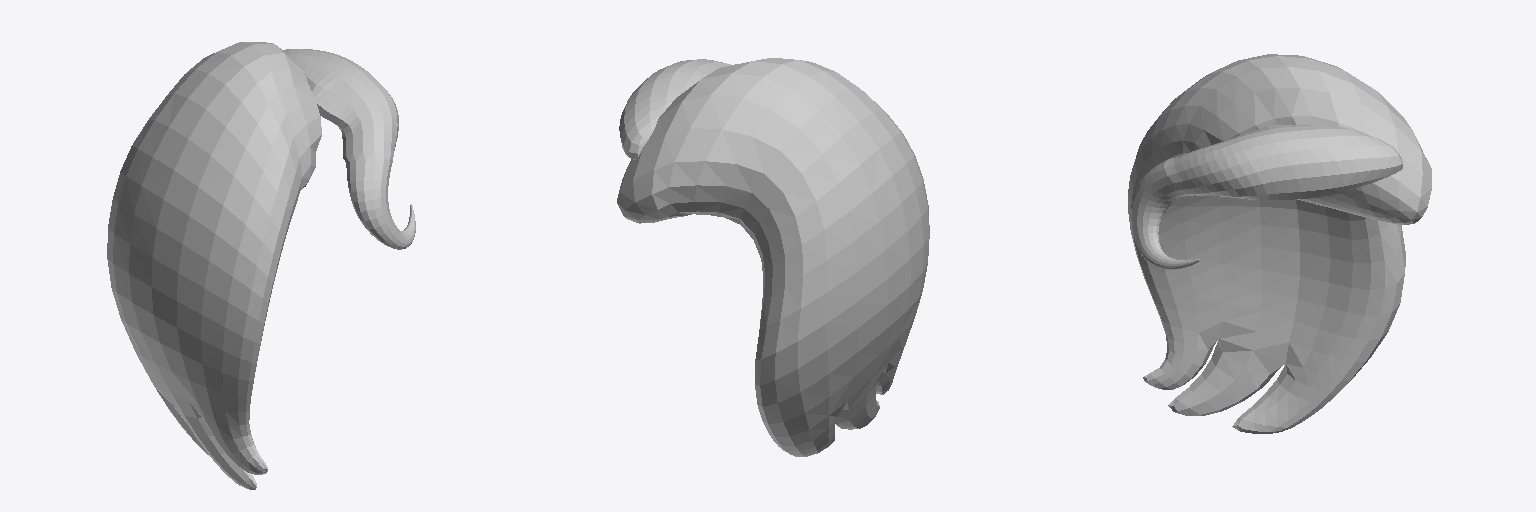
Rendered from hairfront.obj.
The picture shows the model from 3 angles: view 1: azimuth 30°, elevation 25°; view 2: azimuth 150°, elevation 25°; view 3: azimuth 270°, elevation 25°; orthographic projection.
Visible parts, largest first — view 1: hairFront; view 2: hairFront; view 3: hairFront.
Boxes of the visible parts, <box> form: hairFront: <box>107,42,415,489</box>; hairFront: <box>617,58,929,456</box>; hairFront: <box>1128,54,1431,433</box>.
Bounding box in the file's own units: 21.23 × 32 × 22.62.